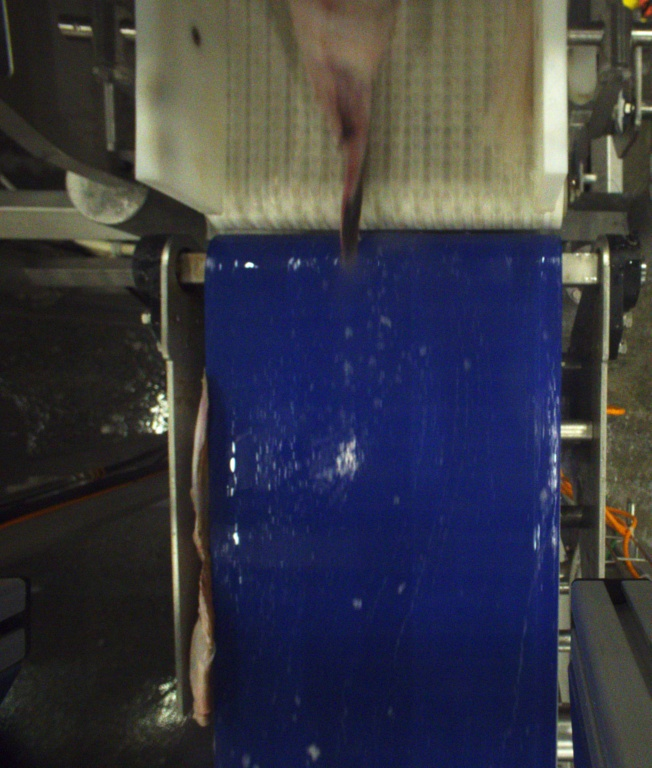ANF: (284, 2, 384, 272)
